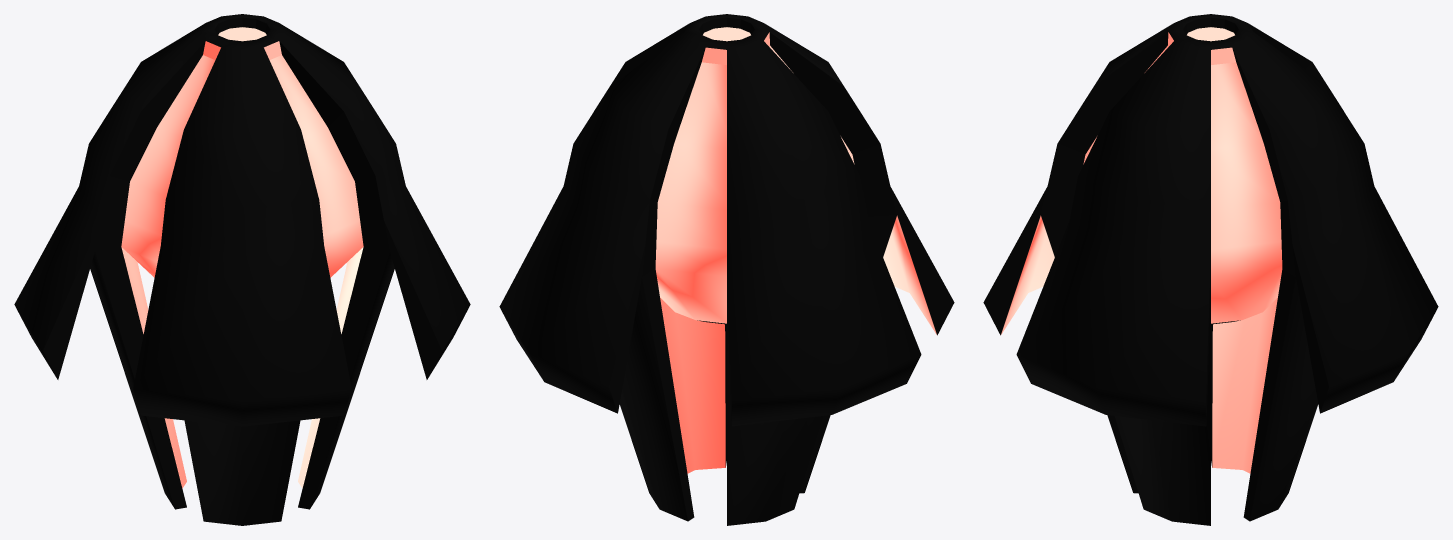
The model's file is bomb2.fbx.
3 views of the same model, side by side, from view 1: azimuth 30°, elevation 25°; view 2: azimuth 150°, elevation 25°; view 3: azimuth 270°, elevation 25° (orthographic).
Visible parts, largest first — view 1: Sphere; view 2: Sphere; view 3: Sphere.
Boxes of the visible parts, x1,y1,x2,y2 form: Sphere: (14, 14, 470, 525); Sphere: (499, 14, 954, 525); Sphere: (983, 14, 1438, 525).
Bounding box in the file's own units: 263 × 297 × 263.
